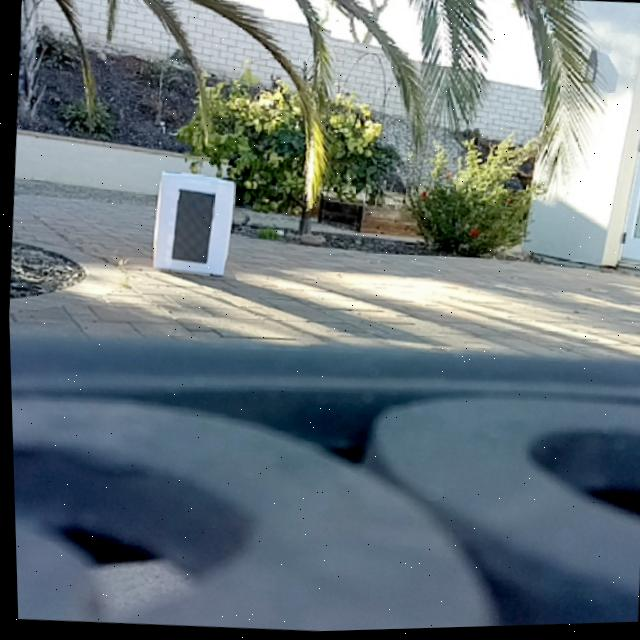led: (169, 190, 214, 266)
